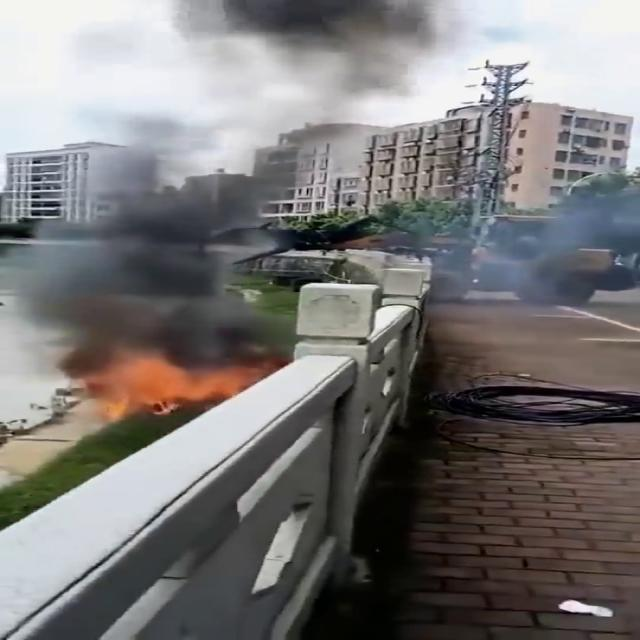Fire: (68, 354, 237, 422)
Smoke: (2, 0, 451, 366), (402, 179, 640, 387)
